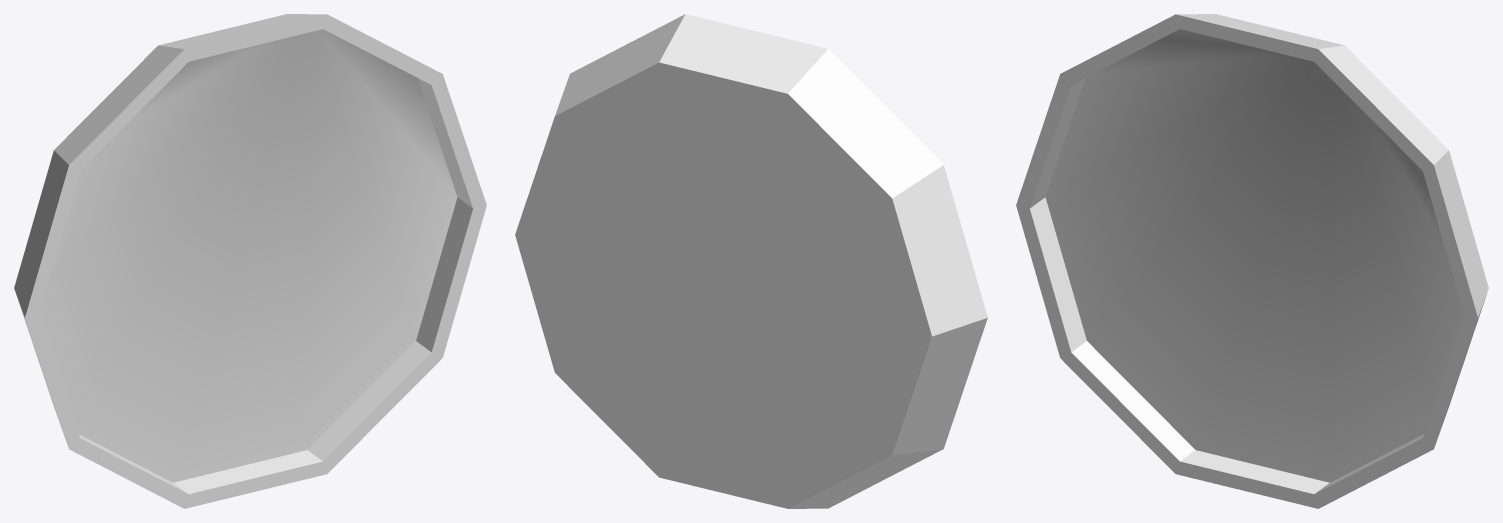
The model's file is Paper_Tube_Lid_Plain.fbx.
3 renders of one model, left to right at view 1: azimuth 30°, elevation 25°; view 2: azimuth 150°, elevation 25°; view 3: azimuth 330°, elevation 25°, orthographic.
Parts seen in each view (by area): view 1: polySurface82; view 2: polySurface82; view 3: polySurface82.
Boxes of the visible parts, x1=… form: polySurface82: x1=14, y1=14, x2=486, y2=508; polySurface82: x1=515, y1=14, x2=987, y2=508; polySurface82: x1=1016, y1=14, x2=1488, y2=508.
Bounding box in the file's own units: 8.44 × 8.03 × 1.06.
